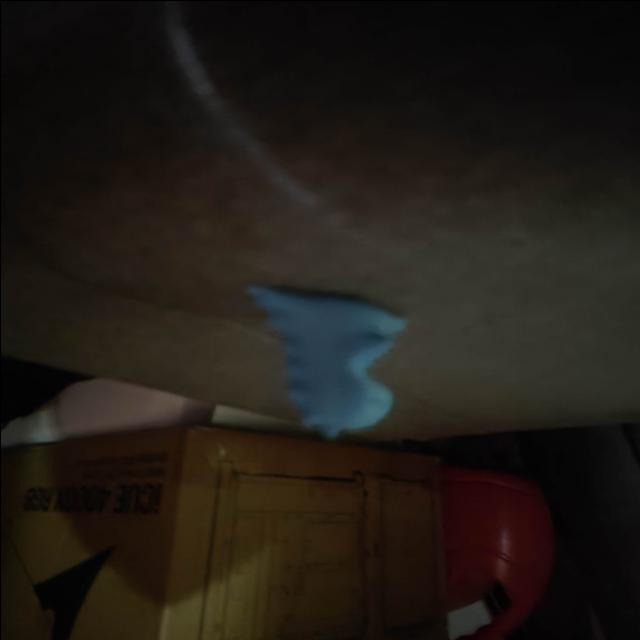DINO: (247, 281, 437, 438)
